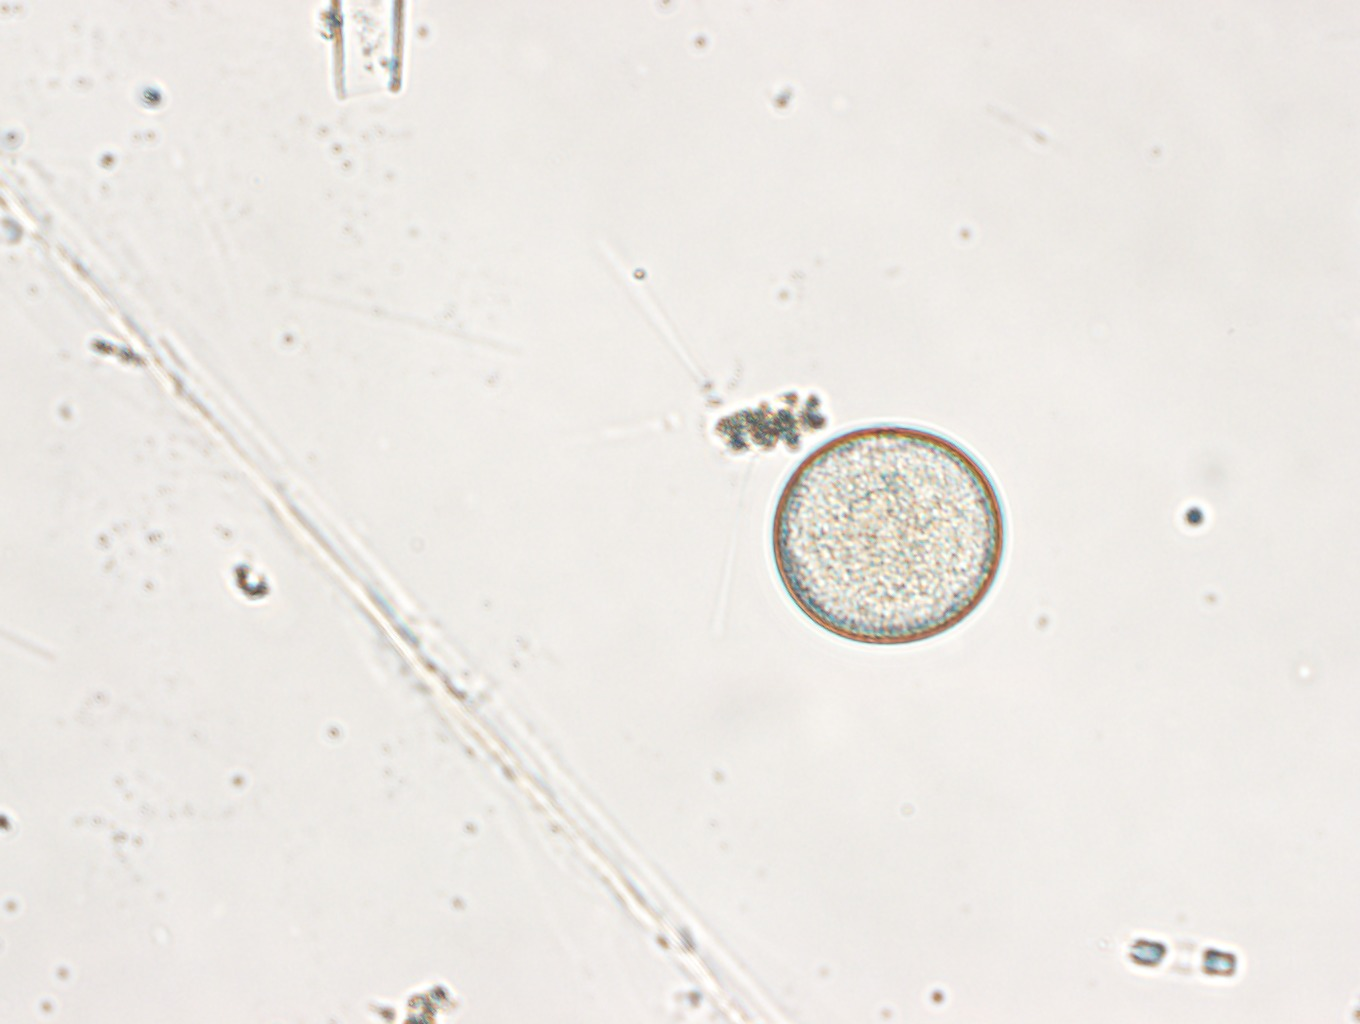coscinodiscus: (768, 422, 1007, 648)
